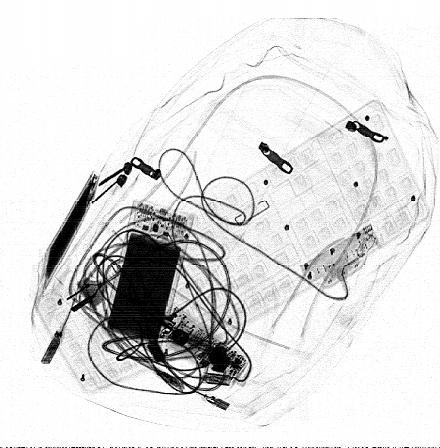Powerbank: (101, 198, 195, 348), (44, 170, 101, 289)
